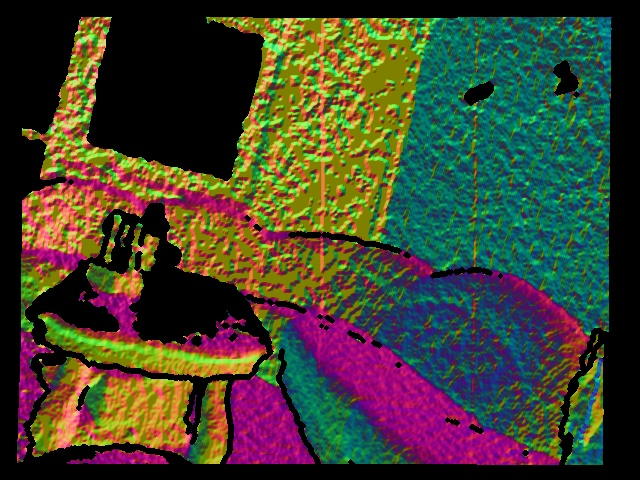station: (84, 212, 144, 301)
